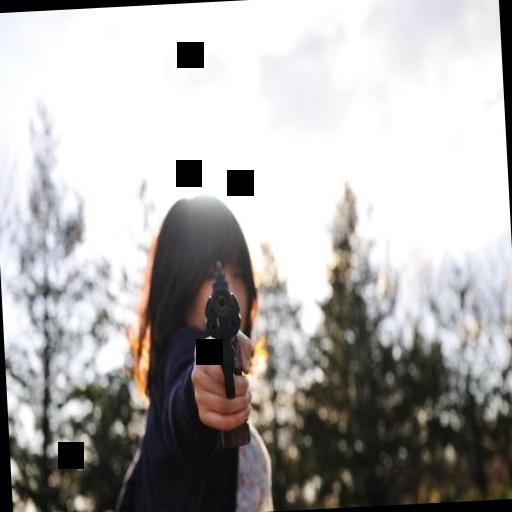Handgun: (198, 252, 255, 446)
